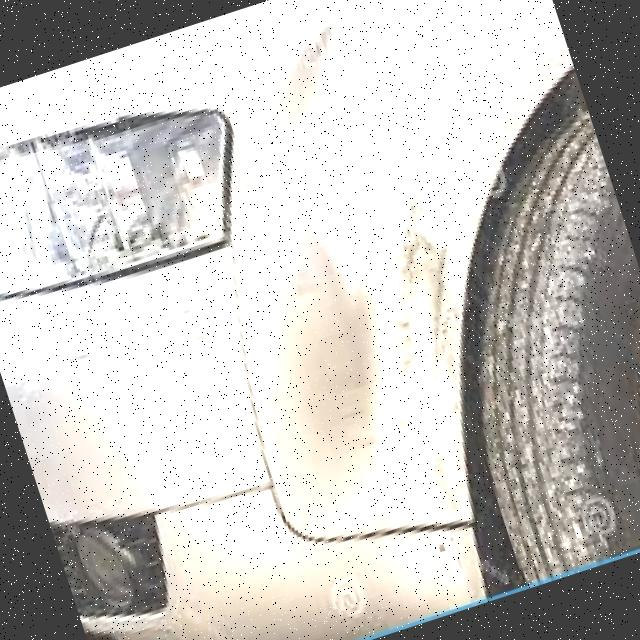Dent: (188, 91, 573, 539), (200, 5, 404, 156)
